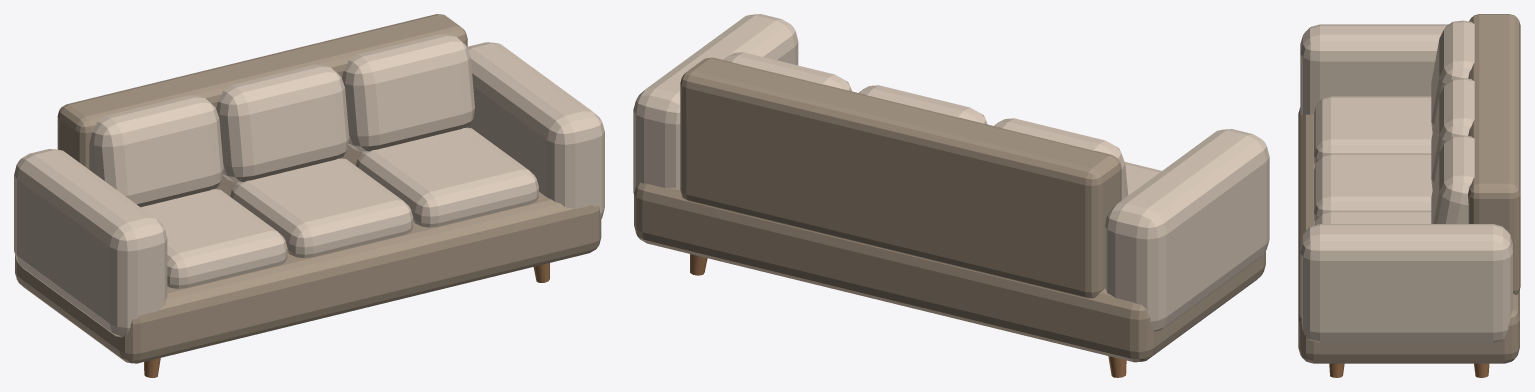
File: sofa-cloud.glb
The picture shows the model from 3 angles, left to right: view 1: azimuth 30°, elevation 25°; view 2: azimuth 150°, elevation 25°; view 3: azimuth 270°, elevation 25°; orthographic projection. The views are drawn at different scales.
Visible parts, largest first — view 1: sofa-cloud; view 2: sofa-cloud; view 3: sofa-cloud.
Boxes of the visible parts, left/top/right/bottom form: sofa-cloud: left=14, top=14, right=604, bottom=377; sofa-cloud: left=633, top=14, right=1269, bottom=377; sofa-cloud: left=1298, top=14, right=1520, bottom=377.
Bounding box in the file's own units: 2.2 × 0.86 × 0.92.
